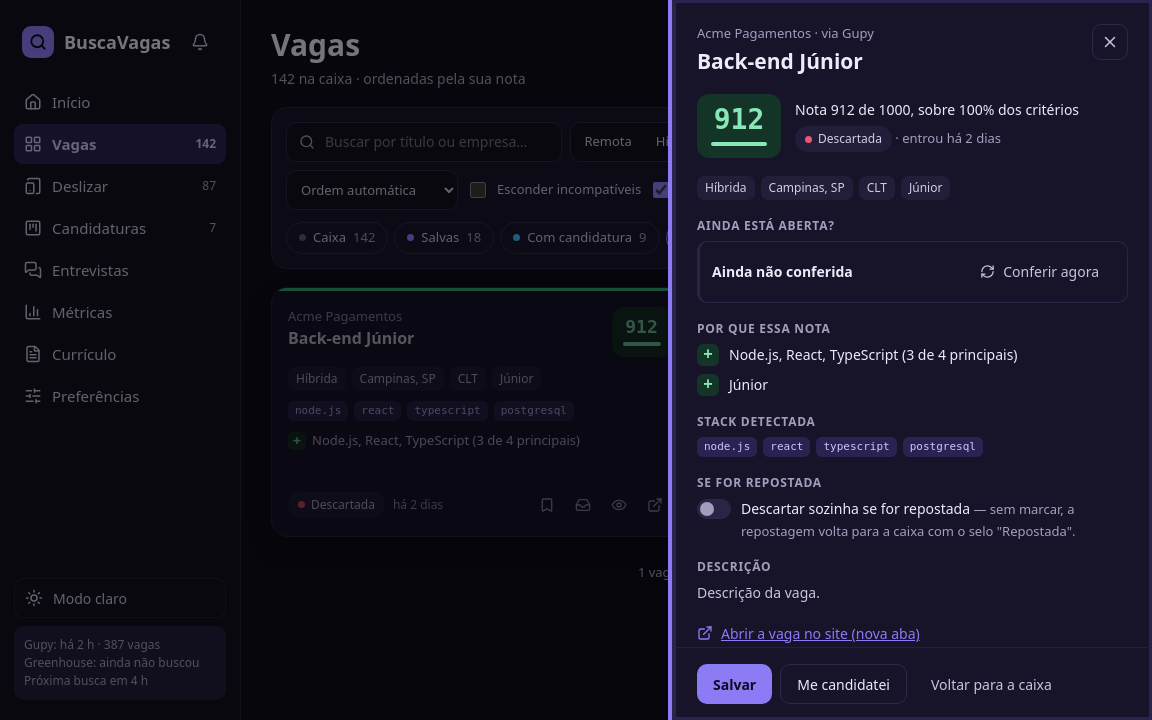
Repostadas › descartada: a chave "descartar sozinha se for repostada" liga e desliga
Click the switch labelled "Descartar sozinha se for repostada" at point(714, 509), box [697,499,731,519]
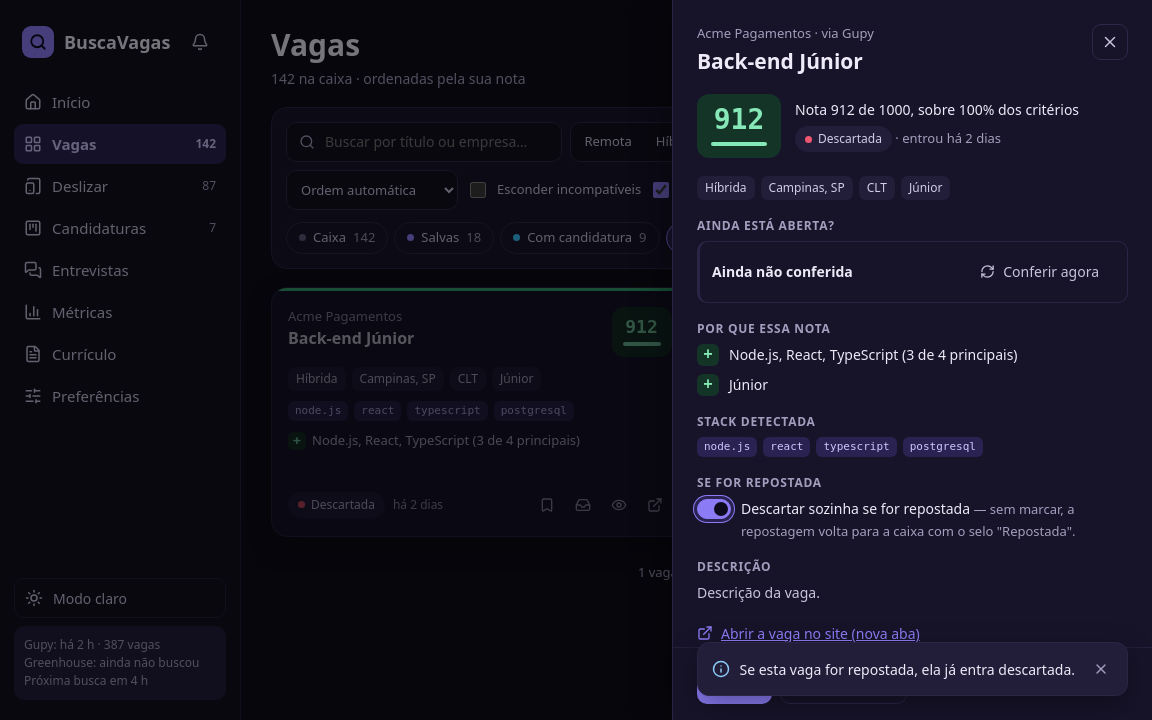
Check: the switch labelled "Descartar sozinha se for repostada" is checked, box [697,499,731,519]
Check: the text "Se esta vaga for repostada, ela já entra descartada." is shown, box [740,658,1075,680]
